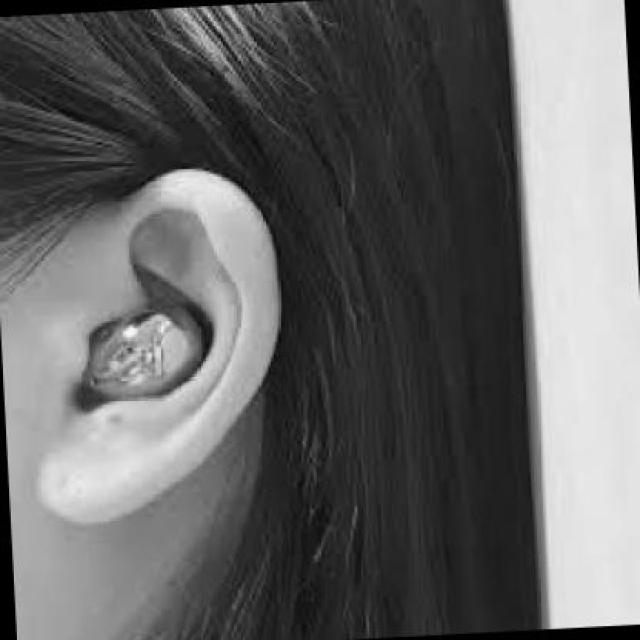earphone: (68, 291, 210, 417)
